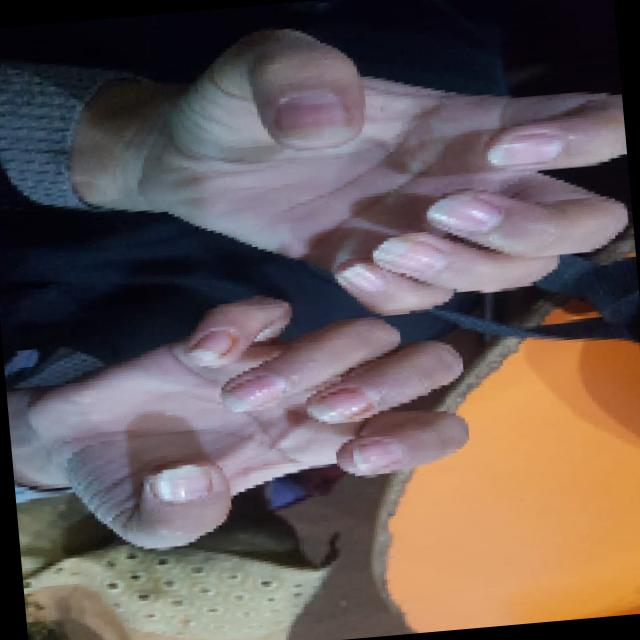Nail: (272, 86, 347, 148), (427, 192, 503, 233), (374, 235, 444, 271), (146, 464, 211, 502), (486, 132, 562, 164), (222, 373, 285, 411), (309, 385, 365, 422), (186, 329, 237, 363), (336, 264, 382, 290), (351, 442, 398, 467)
